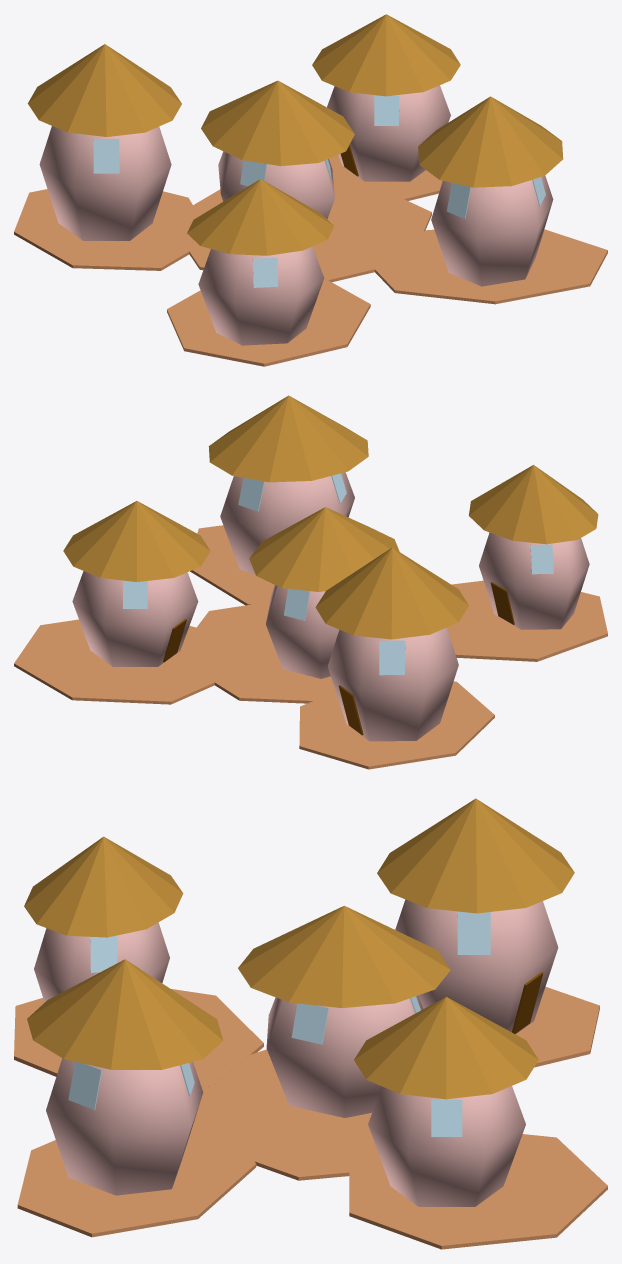
File: TownHuts.fbx
3 views of the same model, one above another, from view 1: azimuth 30°, elevation 25°; view 2: azimuth 150°, elevation 25°; view 3: azimuth 270°, elevation 25° (orthographic). The views are drawn at different scales.
Visible parts, largest first — view 1: Sphere.003, Sphere.001, Cone.003, Cone.001, Sphere.004, Cone.002, Ground.002, Ground.001, Cone, Ground.003, Ground.004, Cone.004 (+8 smaller); view 2: Sphere.003, Ground, Cone.001, Cone.003, Sphere, Cone, Ground.003, Ground.002, Cone.002, Sphere.004, Ground.004, Cone.004 (+10 smaller); view 3: Sphere.001, Ground, Cone.003, Cone.002, Cone.001, Ground.002, Sphere, Cone, Ground.001, Sphere.003, Cone.004, Sphere.002 (+9 smaller).
Boxes of the visible parts, bbox=[...] form: Sphere.003: bbox=[39, 126, 171, 240]; Sphere.001: bbox=[431, 176, 553, 286]; Cone.003: bbox=[27, 44, 181, 136]; Cone.001: bbox=[418, 96, 563, 187]; Sphere.004: bbox=[198, 246, 324, 345]; Cone.002: bbox=[201, 80, 354, 166]; Ground.002: bbox=[189, 176, 431, 282]; Ground.001: bbox=[375, 229, 607, 304]; Cone: bbox=[312, 14, 460, 96]; Ground.003: bbox=[14, 189, 199, 270]; Ground.004: bbox=[167, 278, 370, 366]; Cone.004: bbox=[187, 179, 333, 255]; Sphere.003: bbox=[327, 627, 458, 741]; Ground: bbox=[14, 619, 234, 704]; Cone.001: bbox=[208, 395, 368, 482]; Cone.003: bbox=[315, 547, 468, 639]; Sphere: bbox=[72, 571, 198, 666]; Cone: bbox=[63, 501, 210, 581]; Ground.003: bbox=[299, 681, 494, 769]; Ground.002: bbox=[181, 601, 338, 703]; Cone.002: bbox=[249, 507, 399, 591]; Sphere.004: bbox=[479, 532, 589, 629]; Ground.004: bbox=[447, 580, 607, 661]; Cone.004: bbox=[468, 465, 598, 544]; Sphere.001: bbox=[46, 1058, 203, 1195]; Ground: bbox=[349, 1134, 607, 1249]; Cone.003: bbox=[377, 798, 574, 913]; Cone.002: bbox=[238, 905, 450, 1007]; Cone.001: bbox=[27, 959, 223, 1069]; Ground.002: bbox=[189, 1049, 383, 1180]; Sphere: bbox=[368, 1086, 525, 1206]; Cone: bbox=[354, 996, 538, 1099]; Ground.001: bbox=[17, 1138, 256, 1237]; Sphere.003: bbox=[395, 899, 558, 1034]; Cone.004: bbox=[24, 836, 183, 937]; Sphere.002: bbox=[266, 995, 423, 1117].
Bounding box in the file's own units: 97.24 × 37.79 × 89.79.
